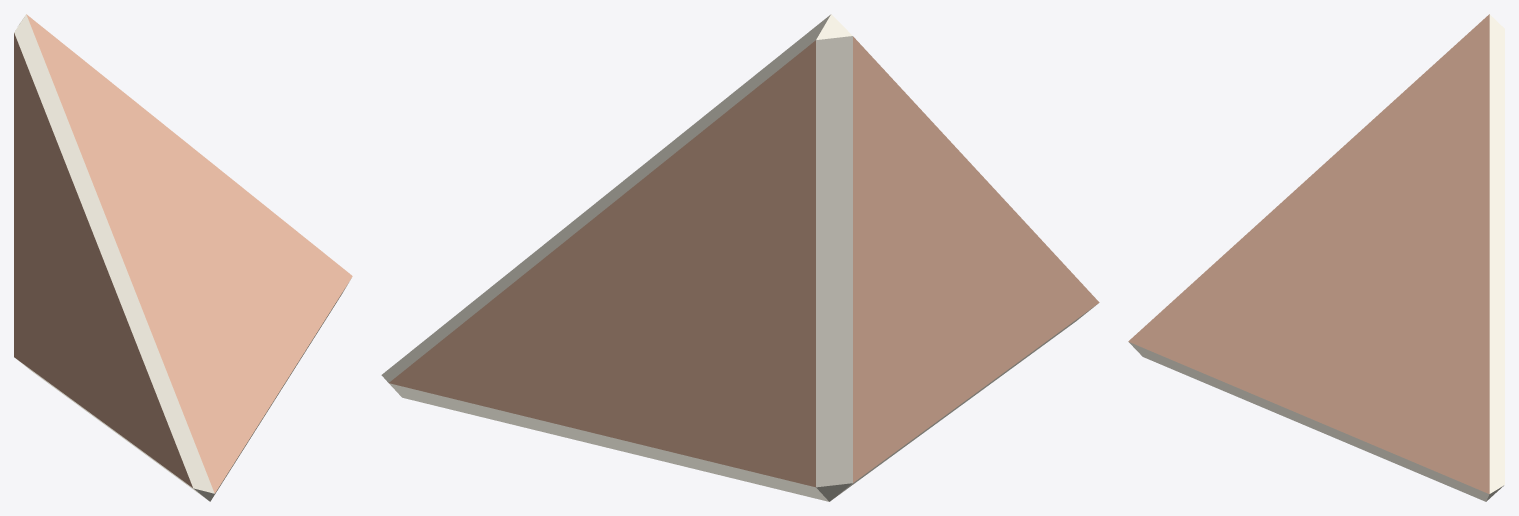
File: R4B_Tetra_LOD1.fbx
The picture shows the model from 3 angles, left to right: view 1: azimuth 30°, elevation 25°; view 2: azimuth 150°, elevation 25°; view 3: azimuth 270°, elevation 25°; orthographic projection. The views are drawn at different scales.
Parts seen in each view (by area): view 1: R4B_Tetra_LOD1; view 2: R4B_Tetra_LOD1; view 3: R4B_Tetra_LOD1.
Part boxes in pixels (box(x1,y1,x2,y2)): R4B_Tetra_LOD1: box(14, 14, 352, 501); R4B_Tetra_LOD1: box(381, 14, 1099, 501); R4B_Tetra_LOD1: box(1128, 14, 1504, 501).
Bounding box in the file's own units: 0.4808 × 0.4808 × 0.4808.
